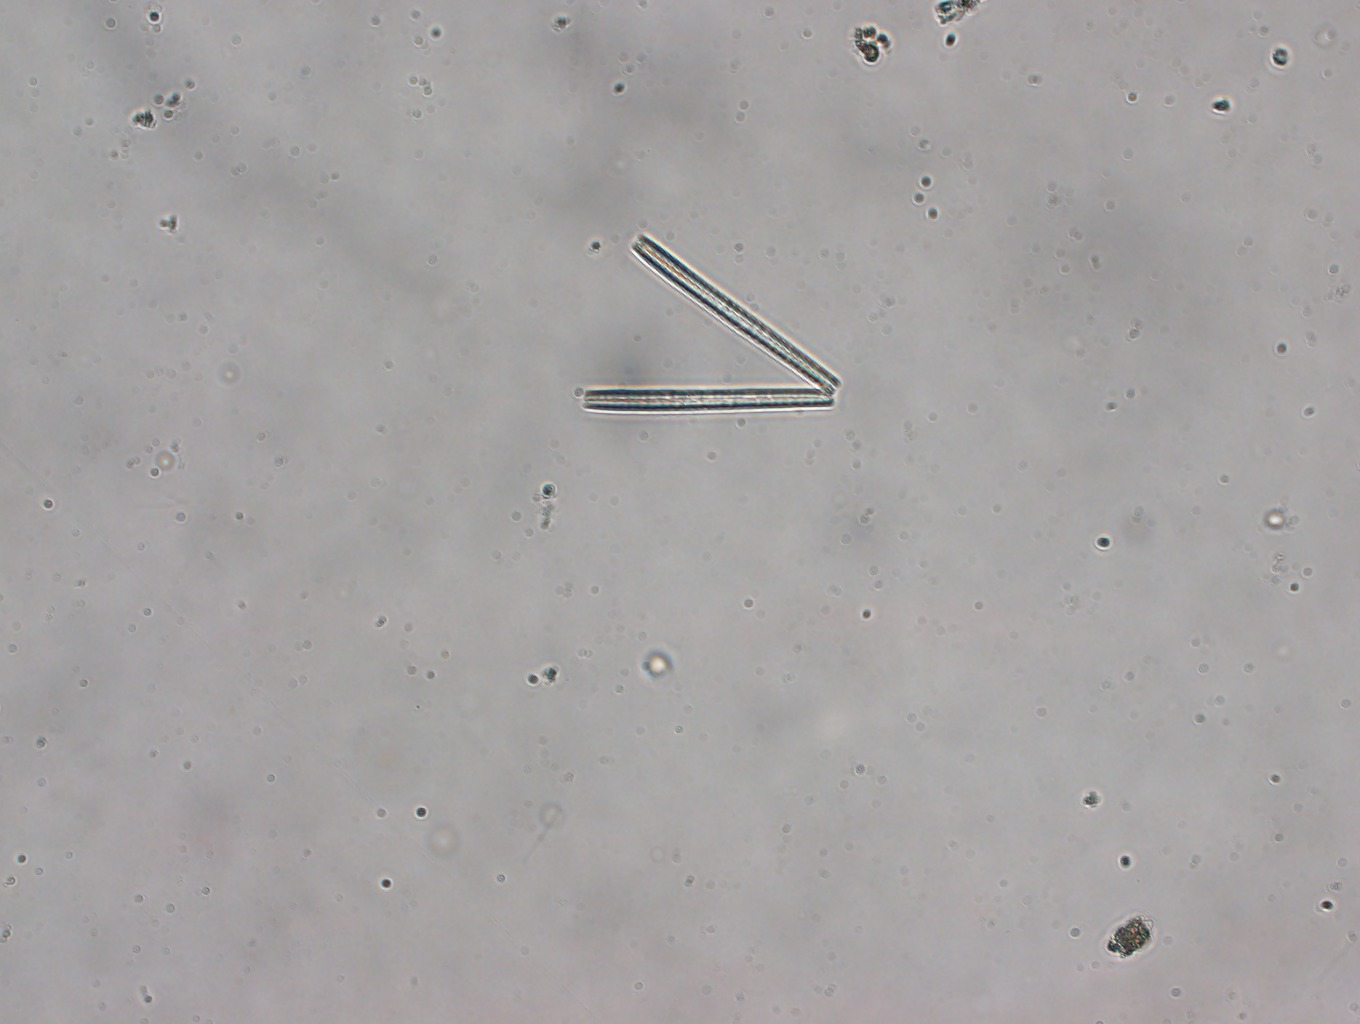thalassionema frauenfeldii: (581, 233, 842, 414)
